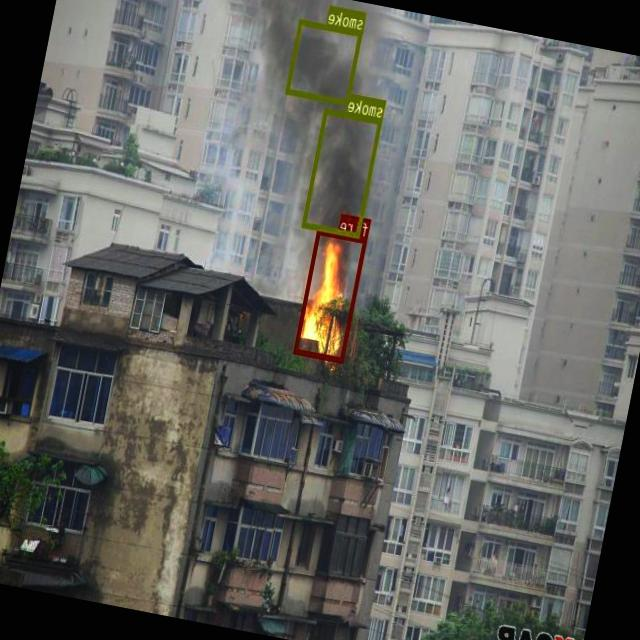fire: (294, 228, 368, 362)
smoke: (303, 108, 383, 238), (286, 19, 364, 106)
